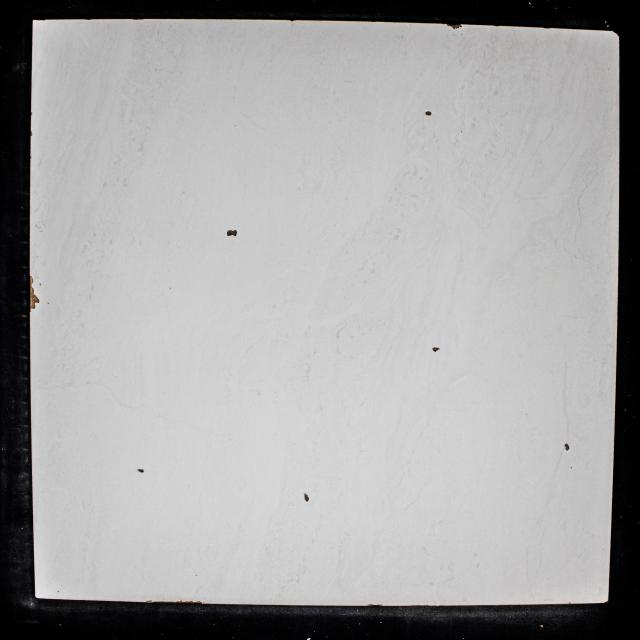edge-chipping: (28, 275, 40, 311), (446, 23, 463, 30), (178, 600, 205, 604), (154, 601, 176, 603)
hole: (226, 228, 238, 237), (303, 492, 310, 503), (564, 442, 570, 452), (431, 347, 440, 353), (137, 468, 145, 473), (425, 111, 432, 116)
